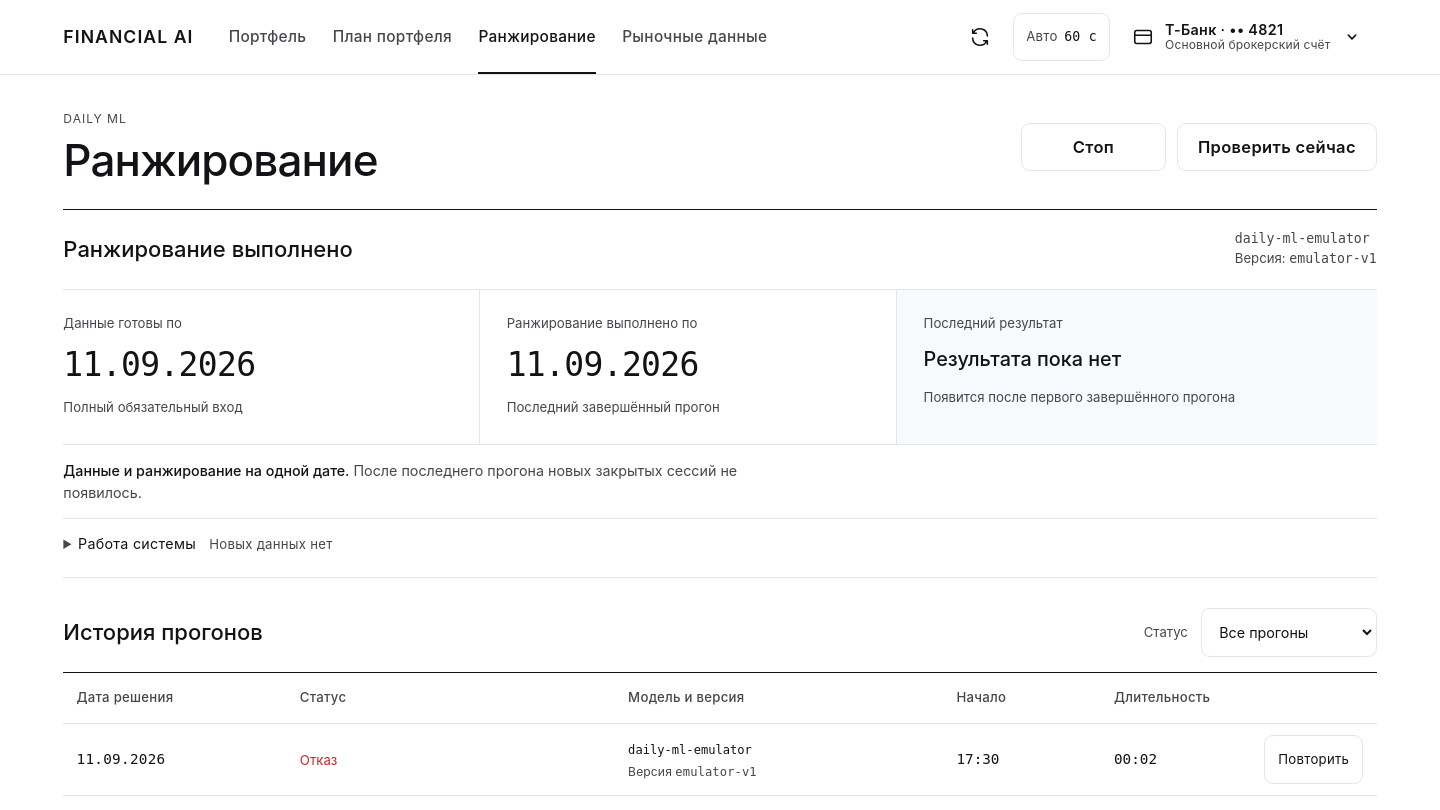
Test: просмотр прогона › удалённый набор объясняется, и повтор по нему невозможен
Click the button named "Открыть прогон за" at (121, 760), box [76,735,165,784]
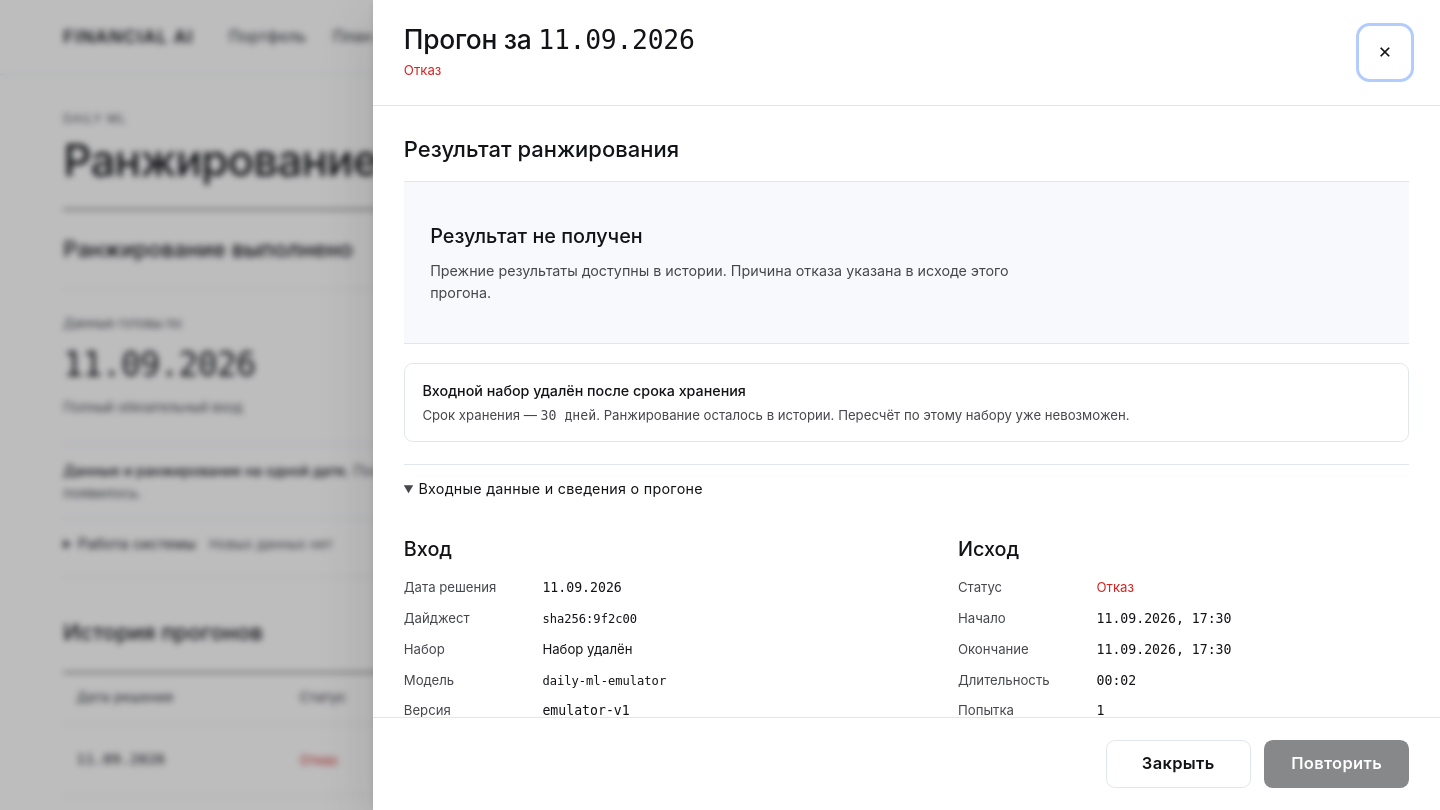
Expected: the text "Входной набор удалён после срока хранения" is shown, [422,382,746,399]
Expected: the button "Повторить" is disabled, [1264,740,1409,788]
